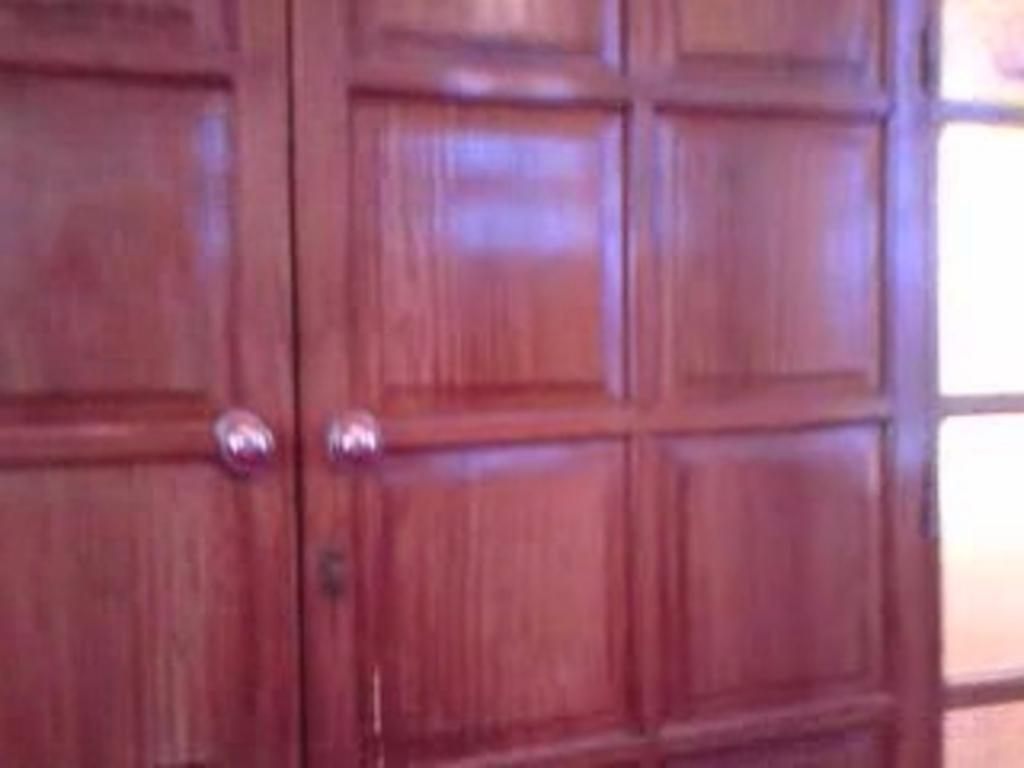door: (321, 12, 904, 749), (8, 30, 290, 768)
handle: (224, 410, 274, 479), (328, 408, 378, 474)
